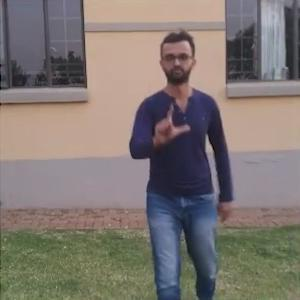land_hand: (151, 96, 191, 149)
